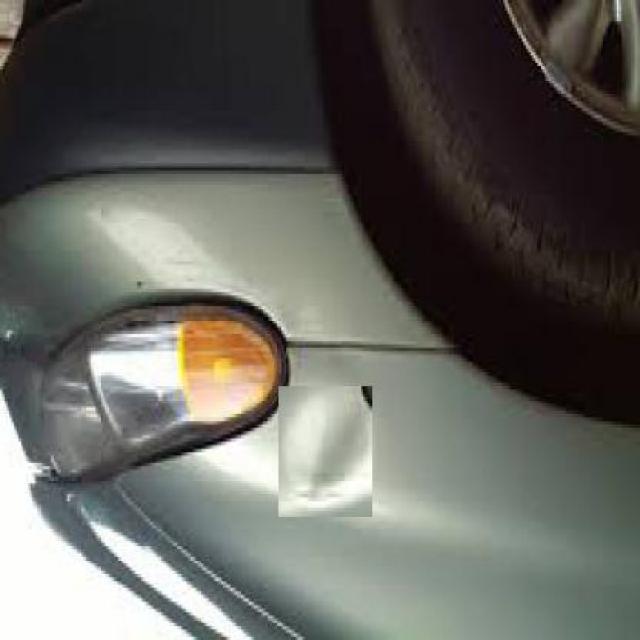dent: (278, 386, 372, 506)
